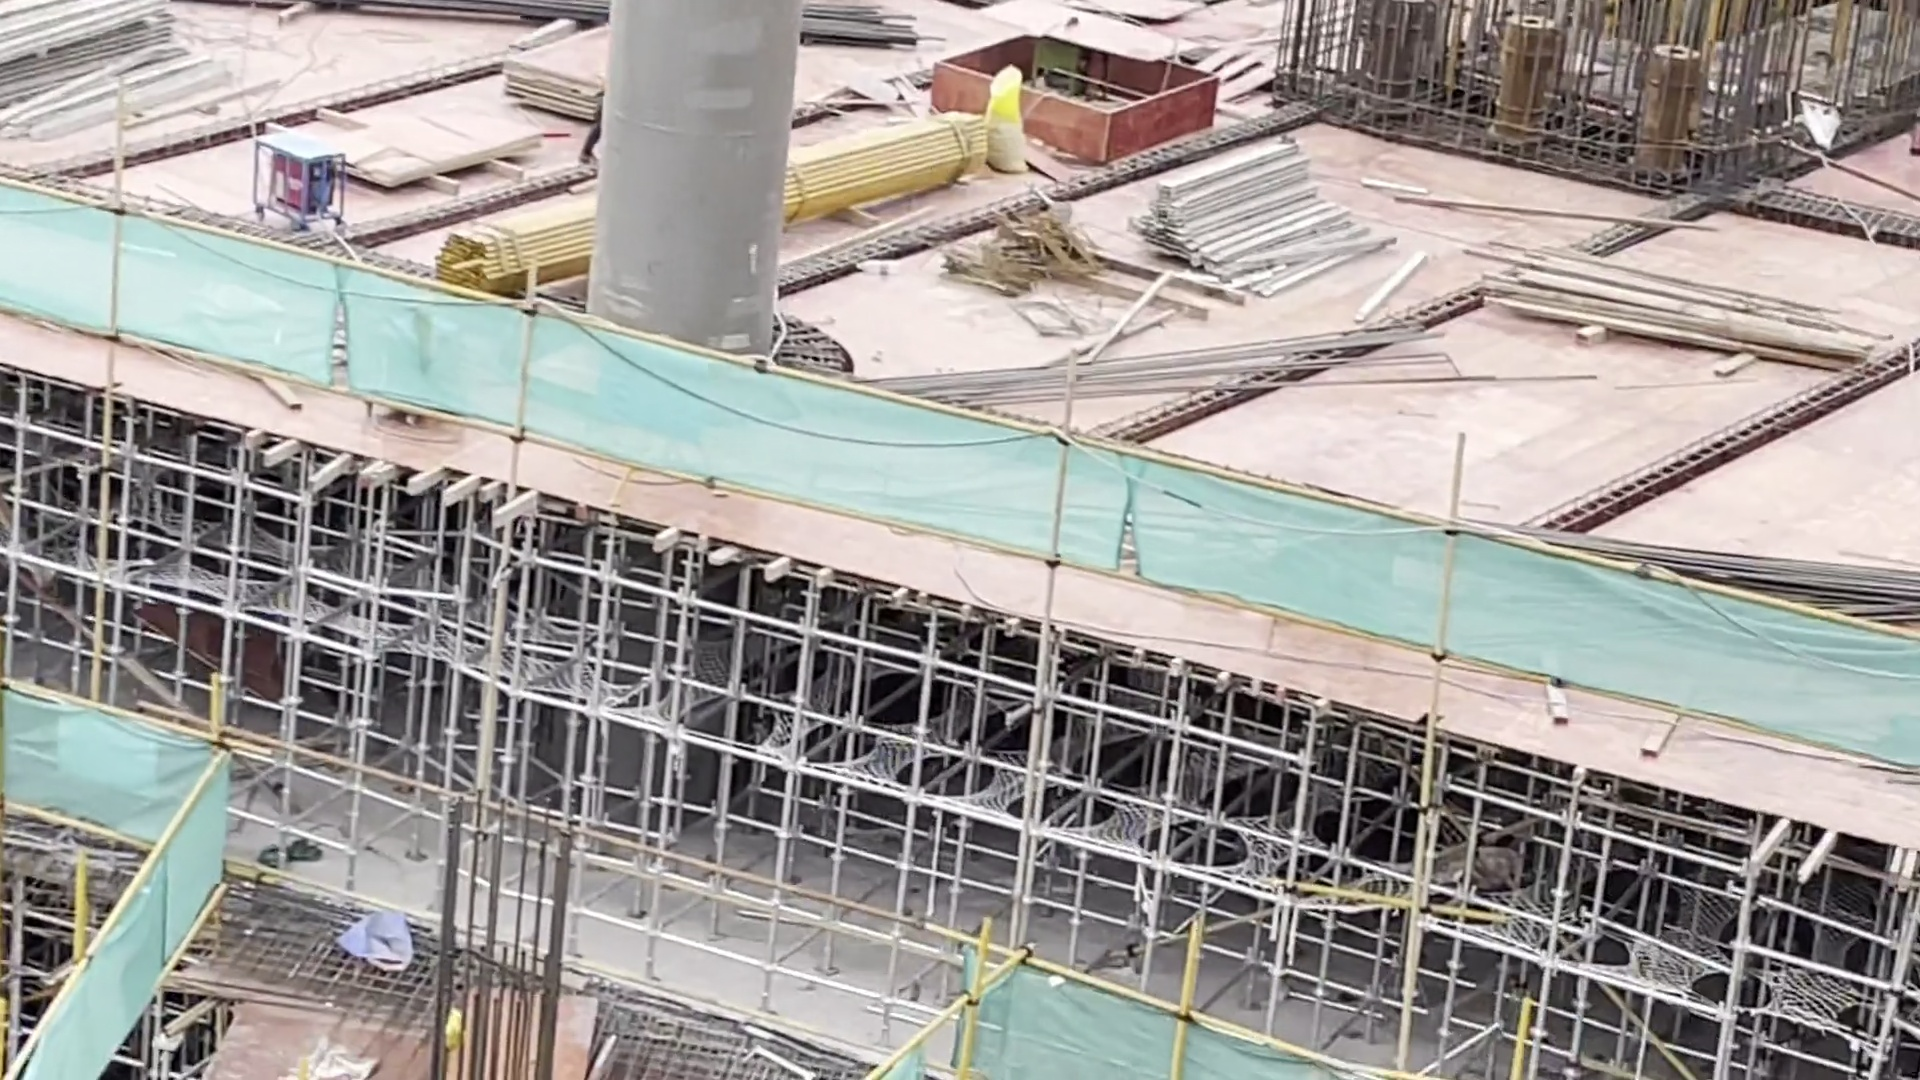board: (498, 22, 604, 116)
wood: (1469, 237, 1898, 372)
